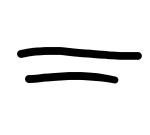eqv: (13, 44, 142, 86)
